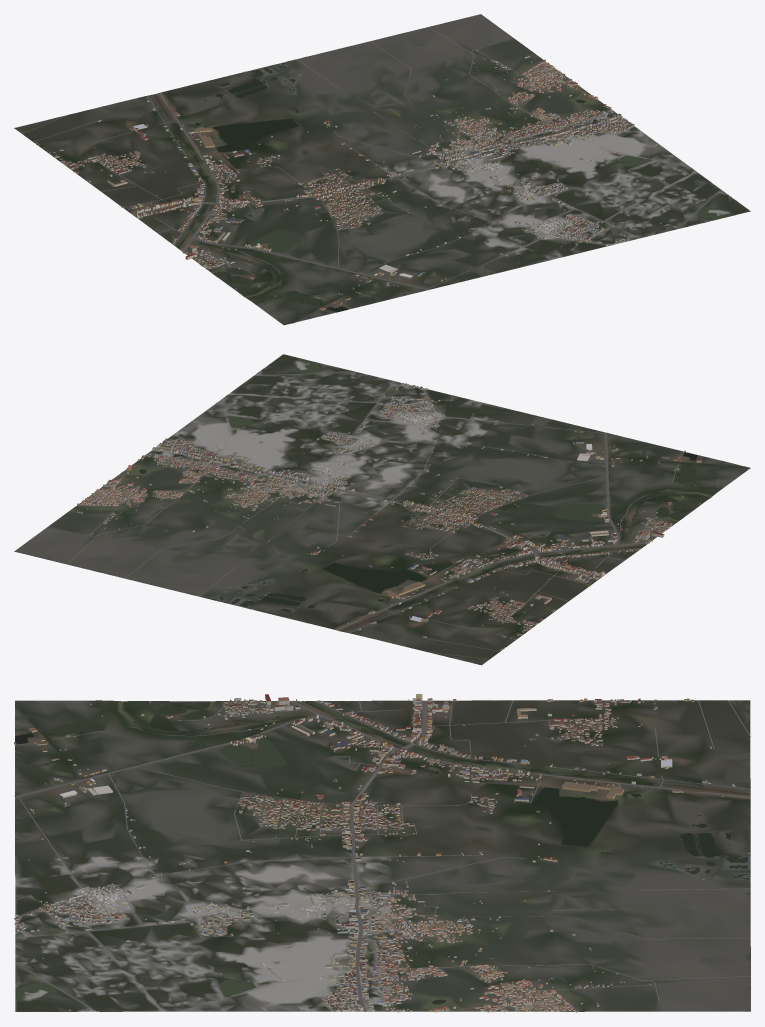
3 renders of one model, top to bottom at view 1: azimuth 30°, elevation 25°; view 2: azimuth 150°, elevation 25°; view 3: azimuth 270°, elevation 25°, orthographic. The views are drawn at different scales.
Parts seen in each view (by area): view 1: ground, buildings, roads, water; view 2: ground, buildings, roads, water; view 3: ground, buildings, roads, water.
Part boxes in pixels (x1,y1,x2,y2): ground: (14,14,750,325); buildings: (35,50,729,310); roads: (22,27,726,307); water: (154,63,733,318); ground: (14,354,750,665); buildings: (77,368,717,649); roads: (63,371,683,659); water: (127,358,728,631); ground: (15,700,750,1011); buildings: (14,694,749,1012); roads: (14,700,750,1011); water: (15,701,749,1011).
Size of the model in its own units: 2842 by 32.96 by 2809.
